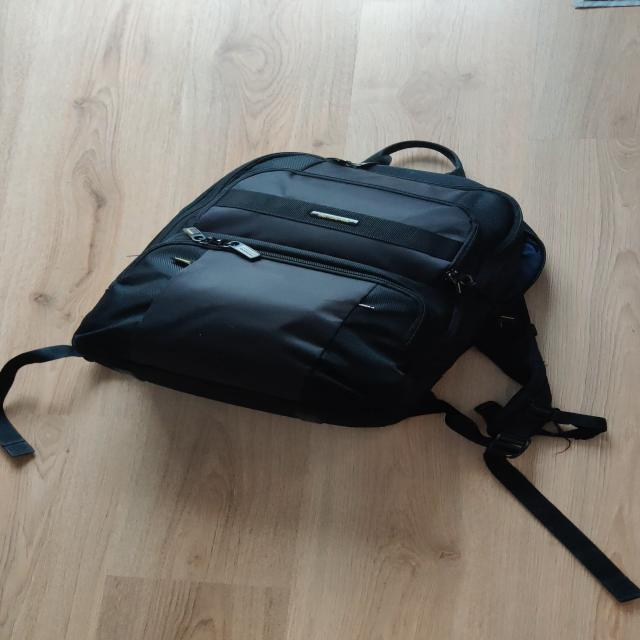backpack: (61, 133, 568, 437)
